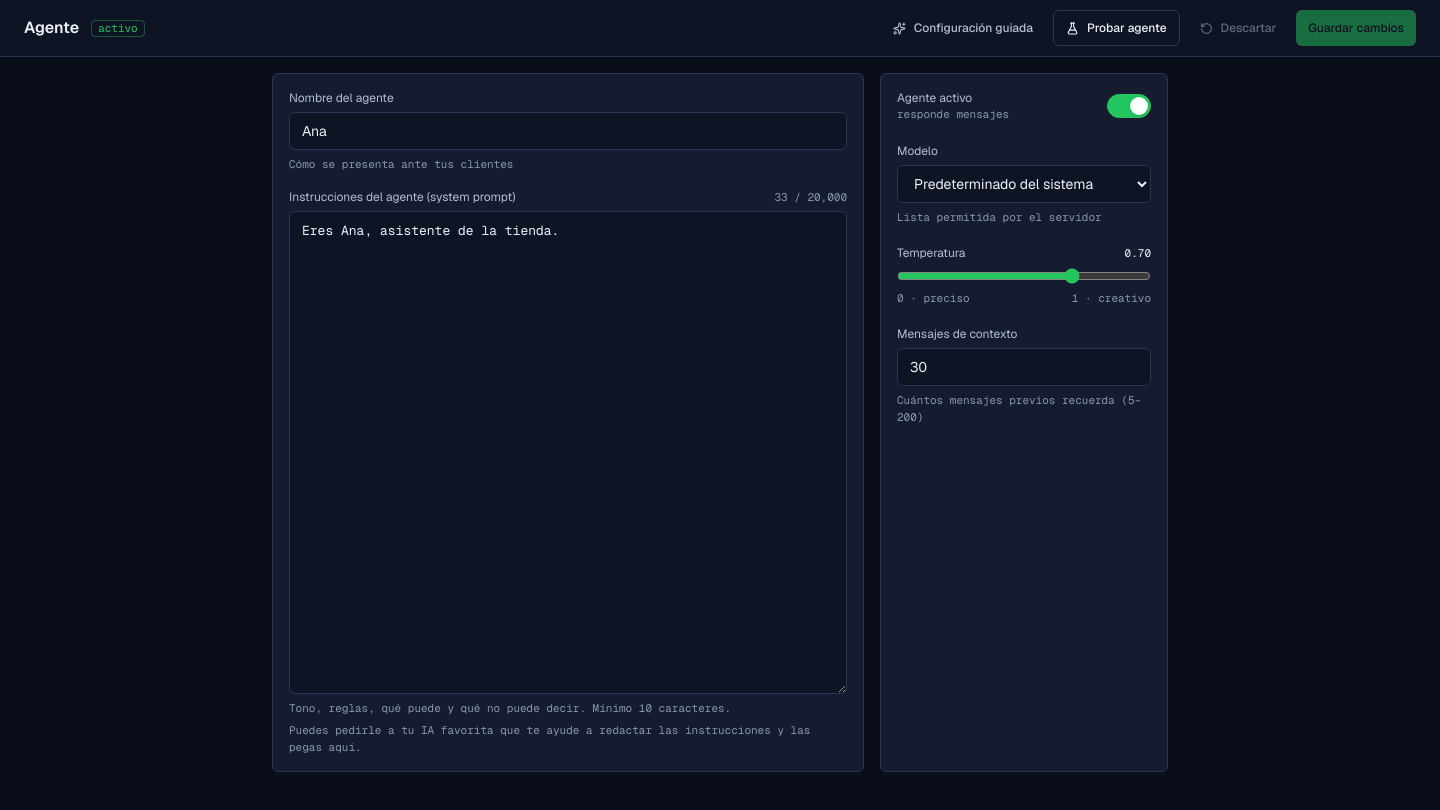
Test: EditorAgente de un número › la gerencia edita y guarda con PUT parcial al número
Replace the text in the field showing "Ana" with "Beto" at (568, 131), box [289, 112, 847, 150]
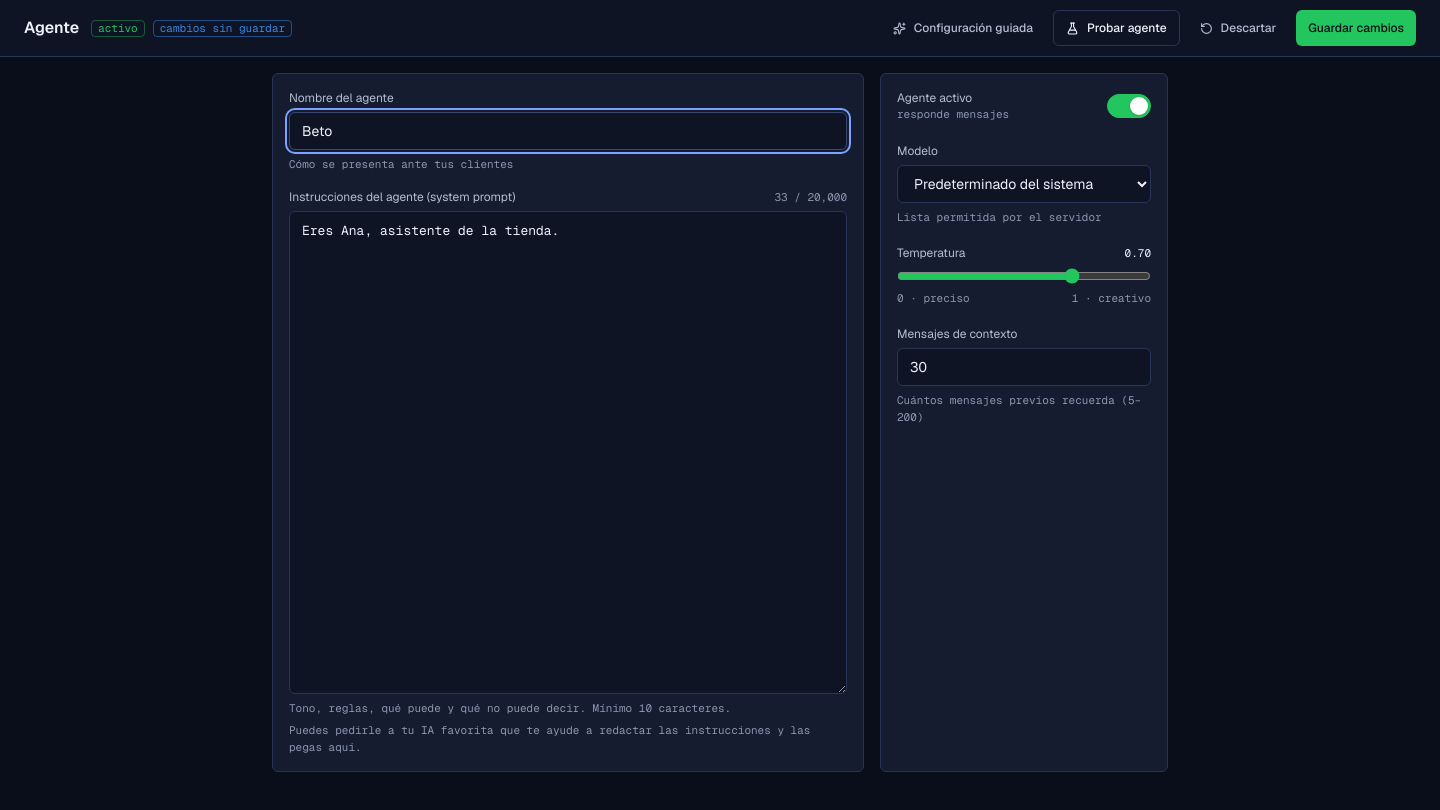
Click the button "Guardar cambios" at (1356, 28), box [1296, 10, 1416, 46]
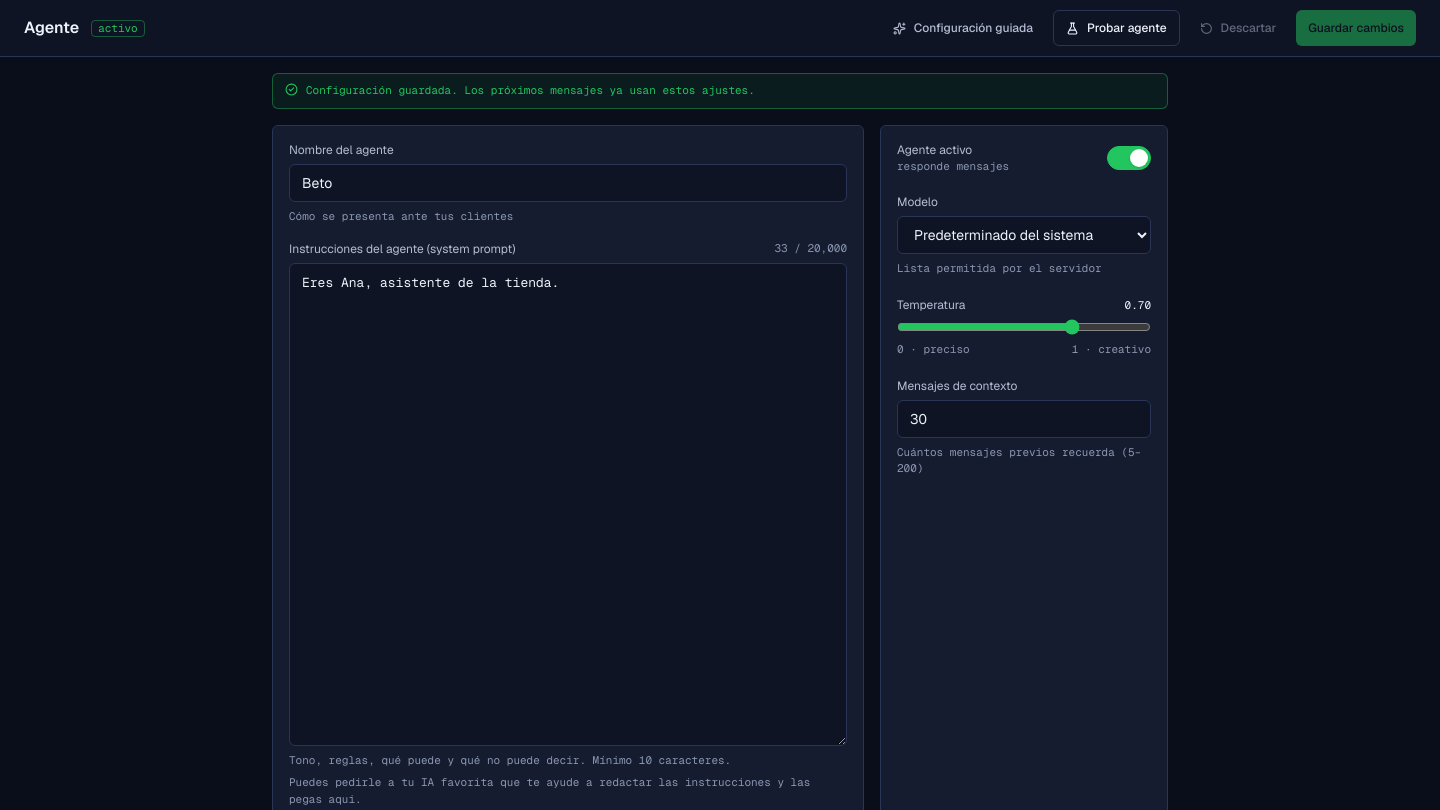
Check: the text "Configuración guardada" is shown, box [306, 83, 755, 97]
